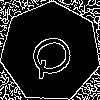Q: (25, 27, 85, 83)
